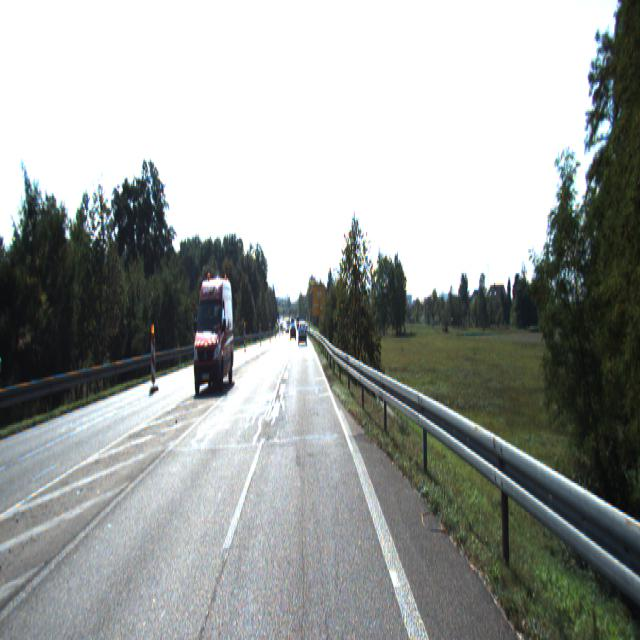Car: (193, 278, 234, 406), (298, 324, 308, 346)
